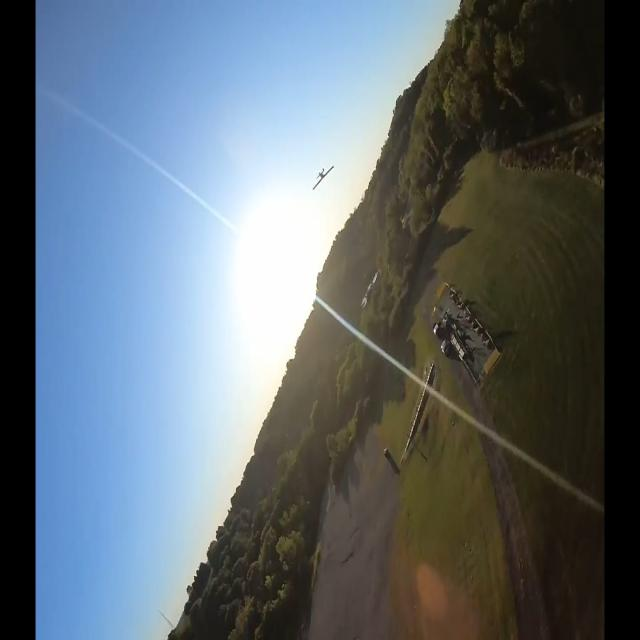iha: (313, 165, 334, 191)
